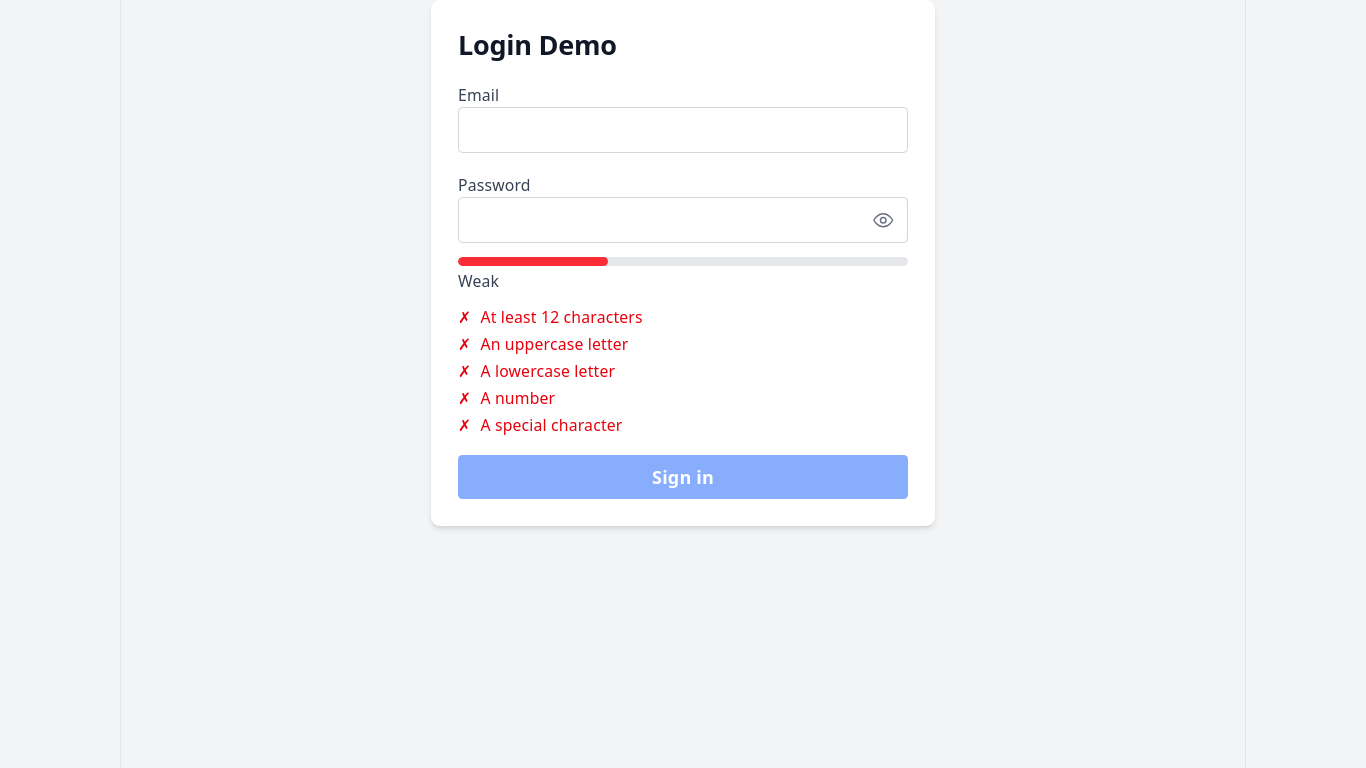
it: LoginDemo › login › shows a success message with the demo email
Type "demo@example.com" into the field labelled "Email". click: (683, 130)
box: [458,107,908,153]
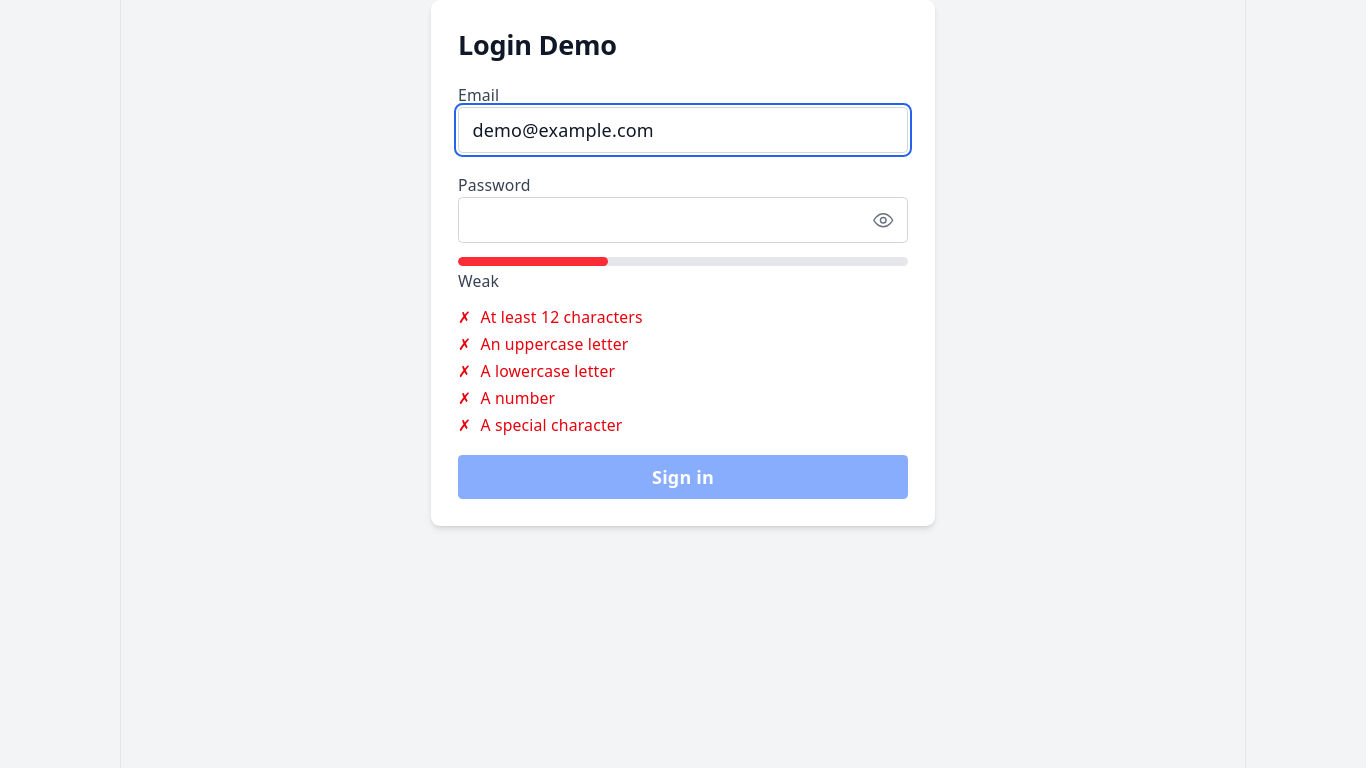
Type "MyS3cure!Passw0rd" into the password field named "Password". click: (683, 220)
box: [458,197,908,243]
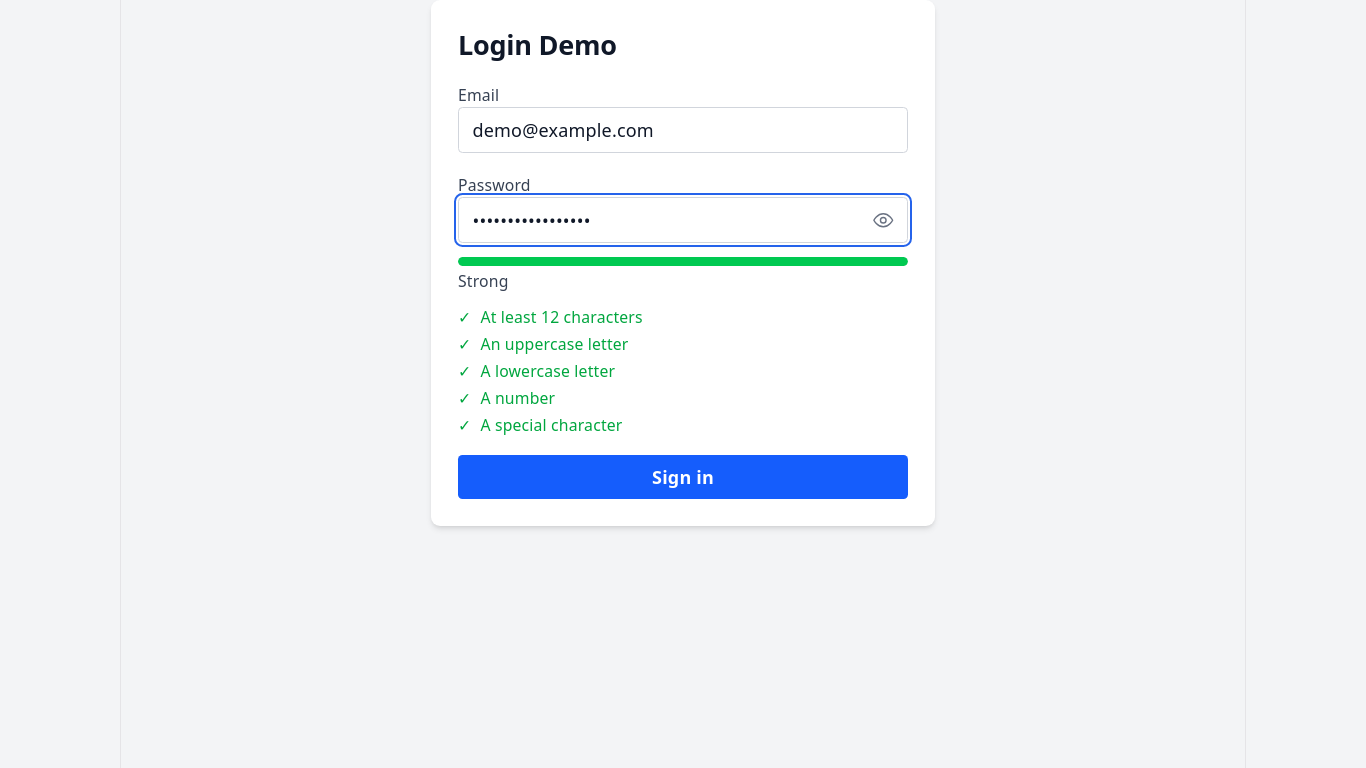
Click the button "Sign in". click: (683, 477)
box: [458,455,908,499]
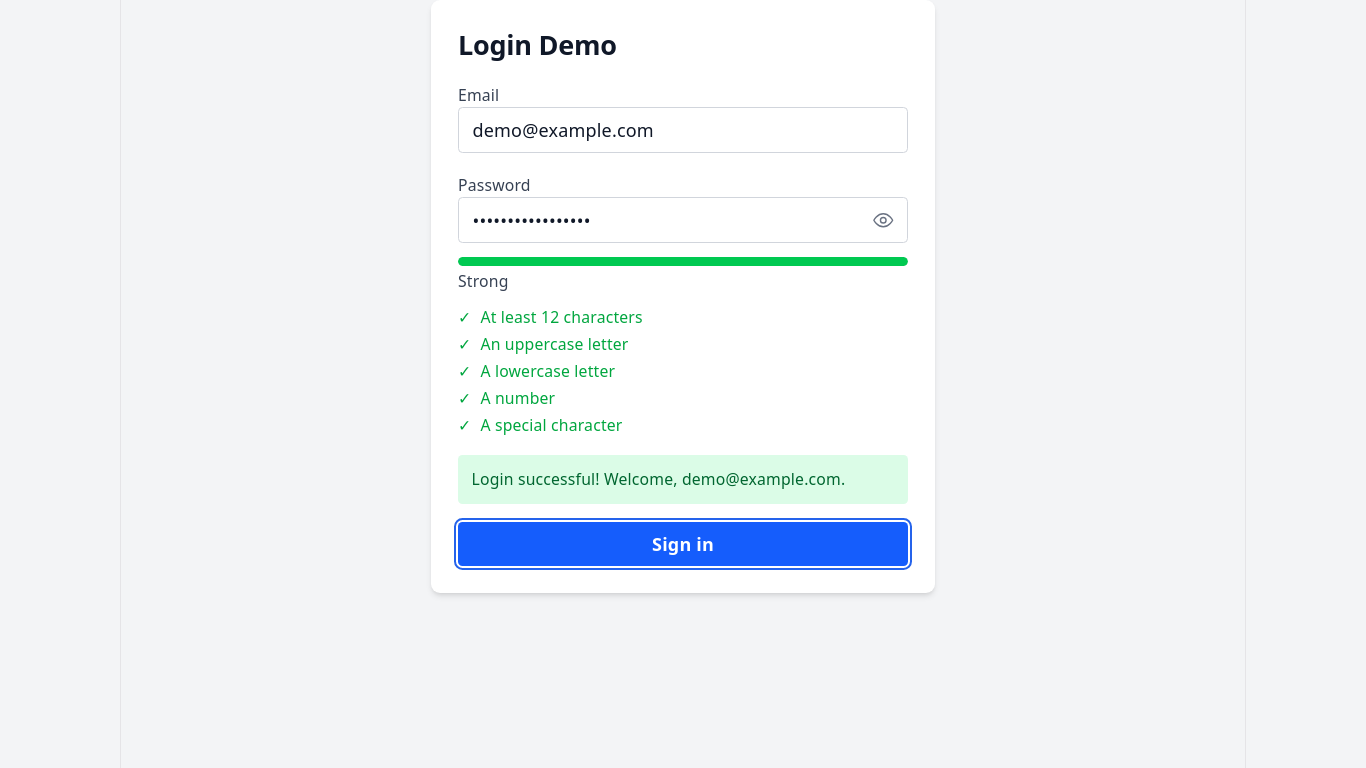
Expected: the message shows "Login successful", [472,468,682,490]
Expected: the message shows "demo@example.com", [682,468,841,490]
